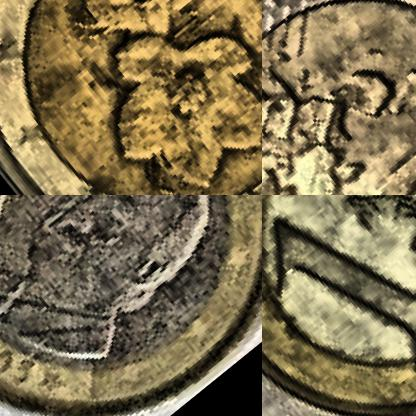coin: (0, 195, 261, 415), (0, 0, 261, 194), (262, 195, 415, 415), (262, 0, 415, 194)
